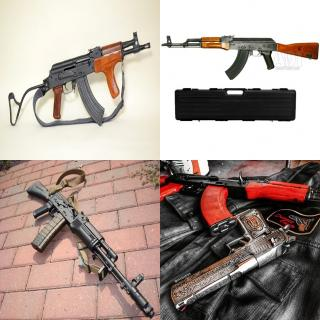gun: (27, 180, 154, 317), (170, 207, 296, 313), (9, 31, 149, 124), (160, 173, 320, 229), (161, 34, 318, 79)
